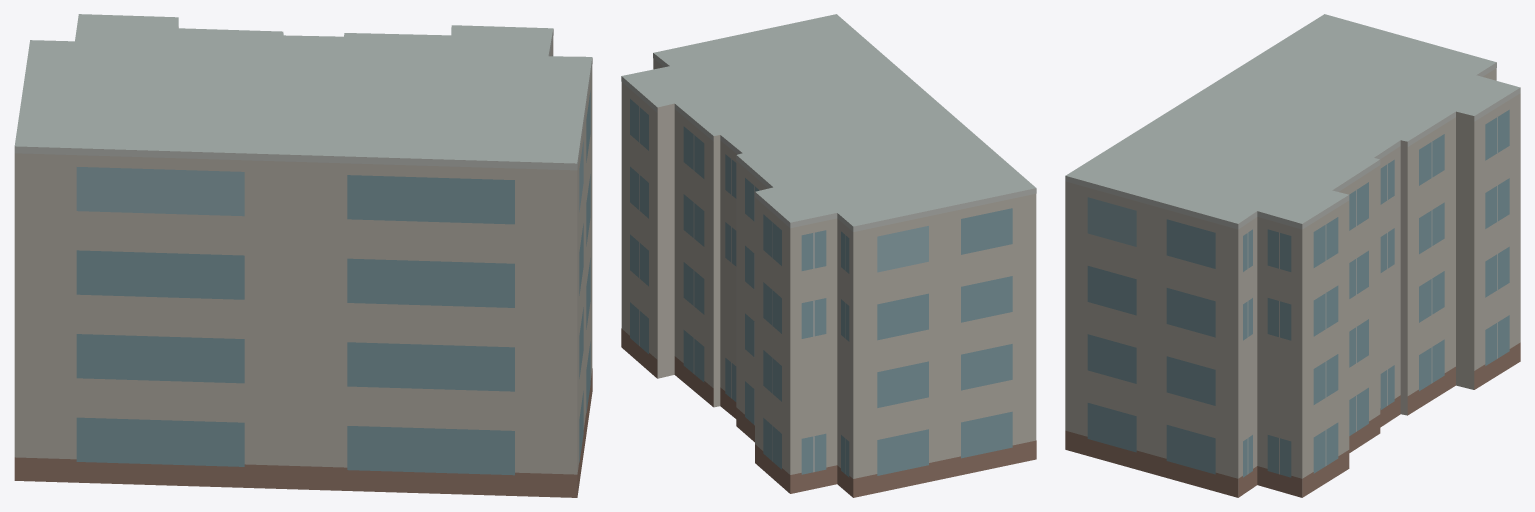
File: survey-upis-32902797.glb
The picture shows the model from 3 angles, left to right: view 1: azimuth 30°, elevation 25°; view 2: azimuth 150°, elevation 25°; view 3: azimuth 270°, elevation 25°; orthographic projection. The views are drawn at different scales.
Visible parts, largest first — view 1: survey-upis-32902797.tmp; view 2: survey-upis-32902797.tmp; view 3: survey-upis-32902797.tmp.
Boxes of the visible parts, left/top/right/bottom form: survey-upis-32902797.tmp: left=14, top=14, right=592, bottom=497; survey-upis-32902797.tmp: left=621, top=14, right=1036, bottom=497; survey-upis-32902797.tmp: left=1065, top=14, right=1520, bottom=497.
Bounding box in the file's own units: 19.57 × 11.9 × 17.93.
